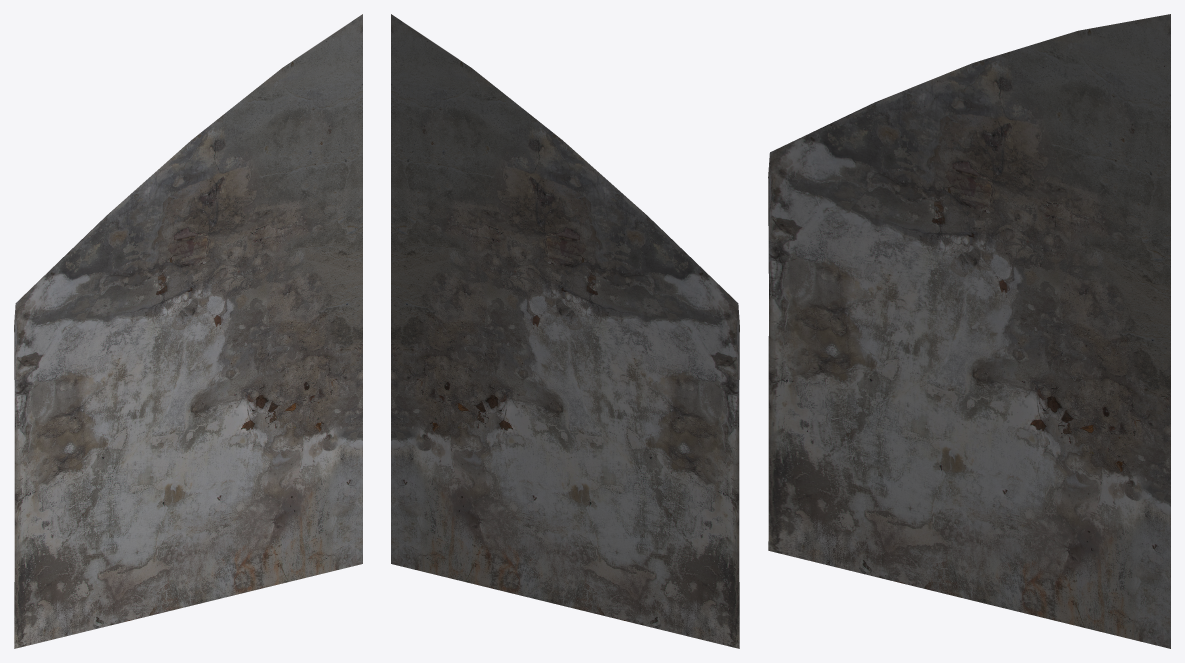
Rendered from SM_CryptWall_02_05.fbx.
3 renders of one model, left to right at view 1: azimuth 30°, elevation 25°; view 2: azimuth 150°, elevation 25°; view 3: azimuth 330°, elevation 25°, orthographic. The views are drawn at different scales.
Parts seen in each view (by area): view 1: sm_CryptWall_02_05_LOD0; view 2: sm_CryptWall_02_05_LOD0; view 3: sm_CryptWall_02_05_LOD0.
Part boxes in pixels (box(x1,y1,x2,y2)): sm_CryptWall_02_05_LOD0: box(14, 14, 362, 648); sm_CryptWall_02_05_LOD0: box(391, 14, 739, 648); sm_CryptWall_02_05_LOD0: box(768, 14, 1170, 648).
Bounding box in the file's own units: 0.000245 × 190 × 287.
